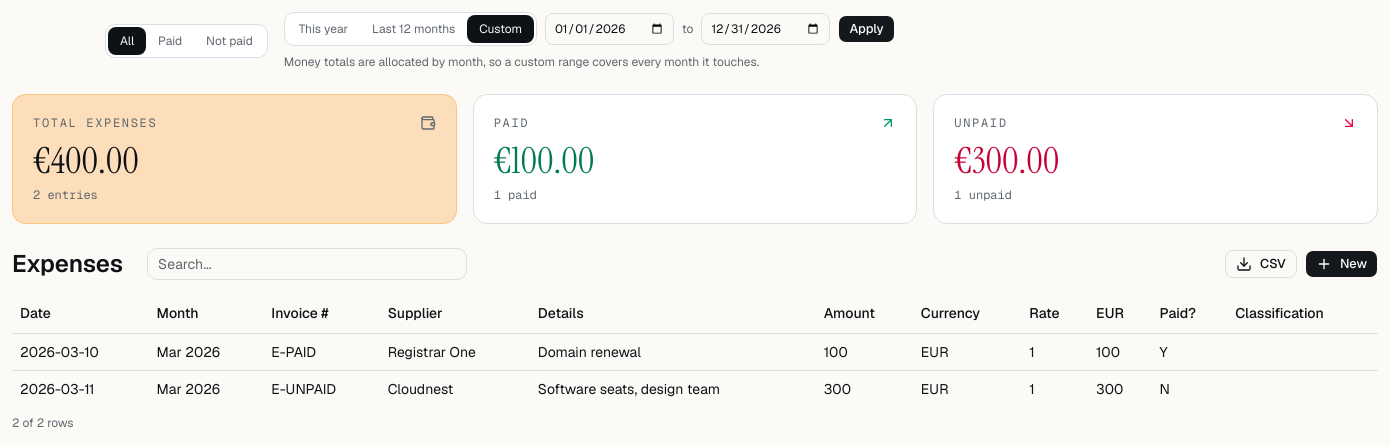
Test: Expenses paid filter › narrows the summary cards to match a search
Expected: the text "€400.00" is shown, [33,137,139,184]
Type "Software" into the field with placeholder "Search..." at (307, 264), box [147,248,467,280]
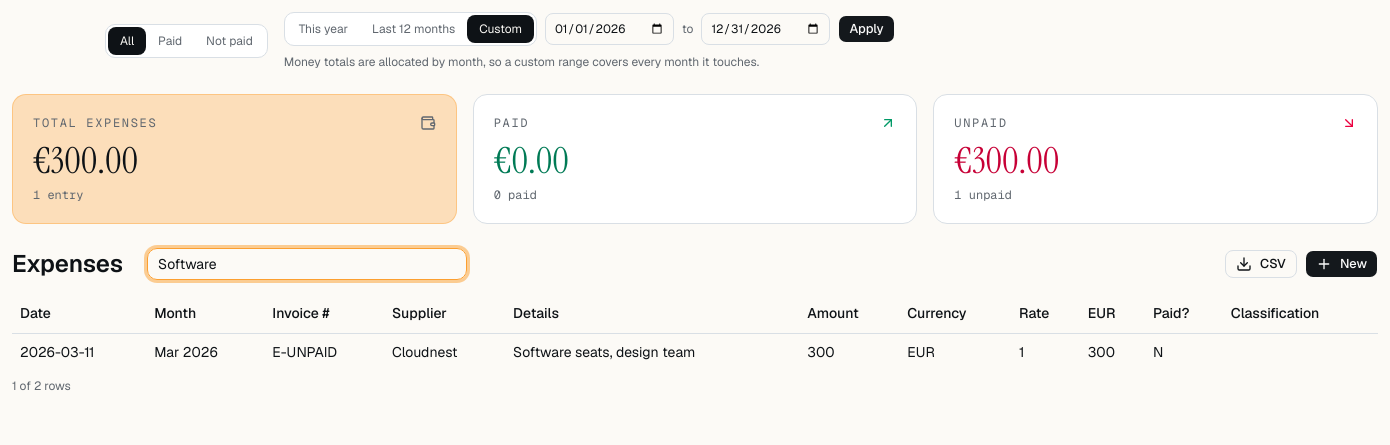
Now the text "€400.00" is gone
Now the text "€300.00" below "Total Expenses" is shown, box [33,137,138,184]
Now the text "E-PAID" is gone
